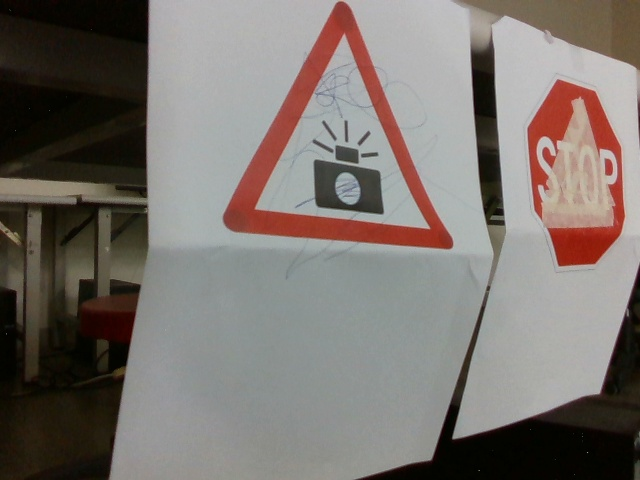camera: (222, 2, 452, 262)
stop: (531, 77, 626, 269)
